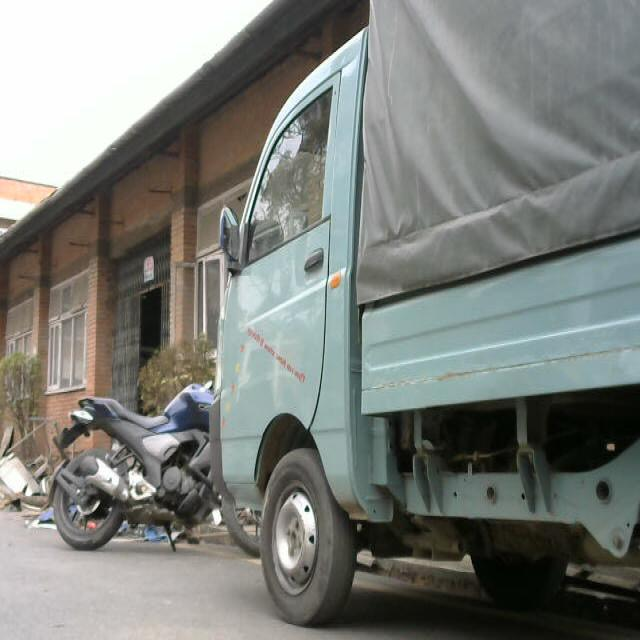Bike: (32, 386, 227, 564)
Vehicle: (191, 64, 640, 609)
